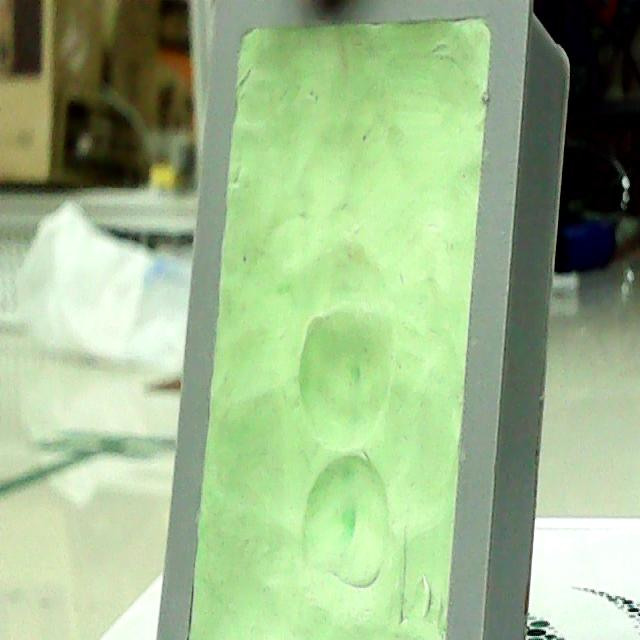block: (146, 0, 580, 640)
